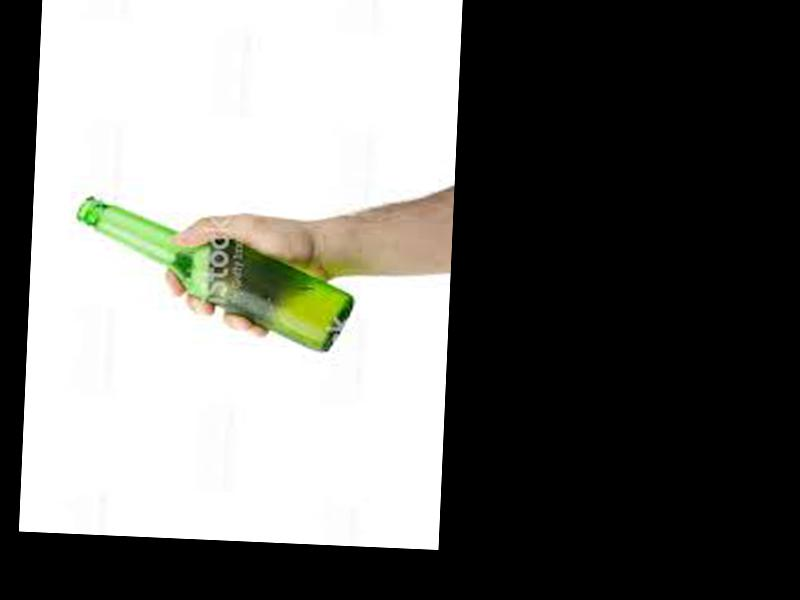Beer: (68, 195, 355, 354)
